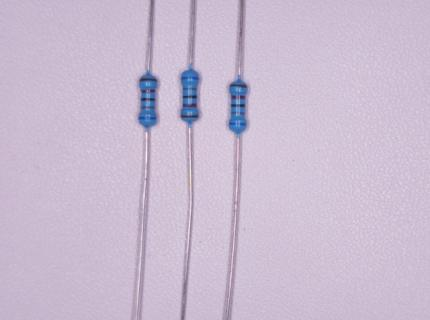Black band: (183, 95, 197, 99), (231, 104, 245, 107), (141, 98, 155, 101)
Blue band: (138, 116, 157, 120), (229, 122, 246, 126), (181, 77, 199, 80)
Brown band: (229, 84, 248, 88), (140, 78, 157, 82), (180, 115, 199, 118)
Grey band: (231, 111, 245, 115), (141, 106, 155, 109), (183, 87, 197, 90)
Red band: (182, 103, 197, 107), (141, 89, 155, 93), (231, 95, 245, 99)
